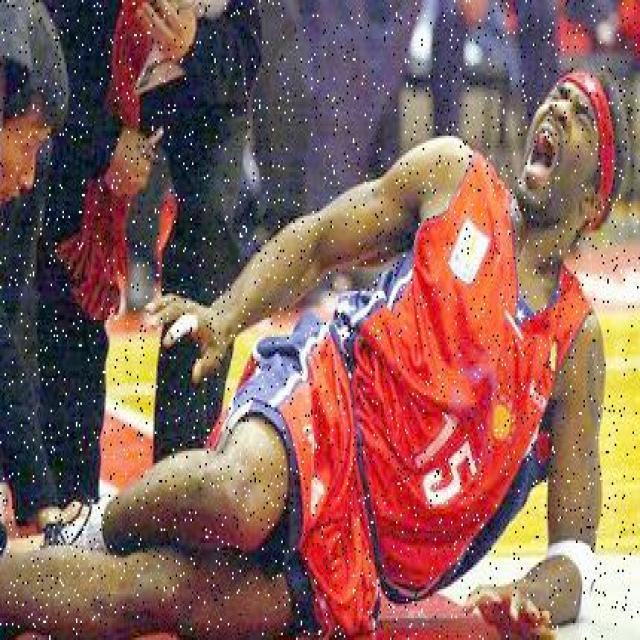fall: (8, 75, 622, 638)
